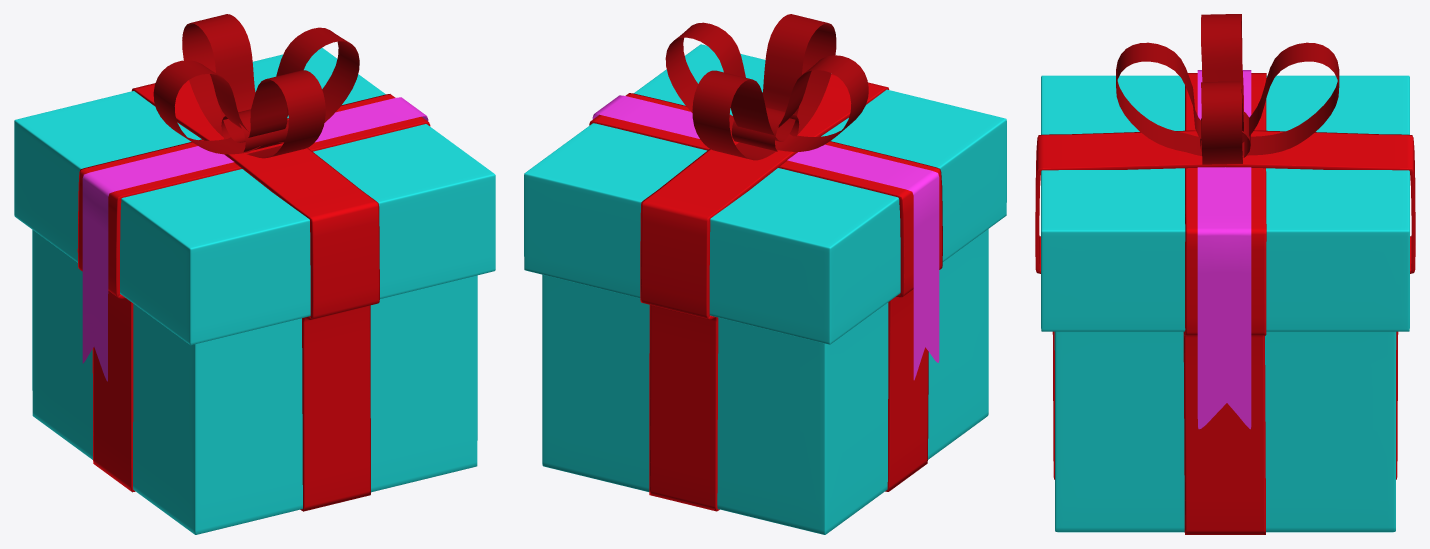
File: blue_gift.dae
The picture shows the model from 3 angles, left to right: view 1: azimuth 30°, elevation 25°; view 2: azimuth 150°, elevation 25°; view 3: azimuth 270°, elevation 25°; orthographic projection. The views are drawn at different scales.
Visible parts, largest first — view 1: box, ribbon 3, ribbon 2, ribbon 4, green ribbon, ribbon 5, ribbon 1; view 2: box, ribbon 3, ribbon 2, ribbon 4, green ribbon, ribbon 5, ribbon 1; view 3: box, ribbon 2, green ribbon, ribbon 3, ribbon 4, ribbon 5.
Part boxes in pixels (x1,y1,x2,y2): box: [14, 48, 495, 534]; ribbon 3: [131, 80, 379, 511]; ribbon 2: [77, 94, 430, 492]; ribbon 4: [182, 14, 325, 158]; green ribbon: [82, 97, 428, 381]; ribbon 5: [153, 27, 359, 154]; ribbon 1: [221, 109, 287, 151]; box: [524, 44, 1006, 534]; ribbon 3: [640, 73, 889, 511]; ribbon 2: [589, 93, 942, 491]; ribbon 4: [692, 14, 836, 160]; green ribbon: [592, 95, 939, 380]; ribbon 5: [665, 22, 868, 151]; ribbon 1: [731, 107, 799, 151]; box: [1041, 75, 1409, 532]; ribbon 2: [1183, 73, 1266, 534]; green ribbon: [1197, 70, 1251, 429]; ribbon 3: [1035, 130, 1415, 479]; ribbon 4: [1116, 42, 1339, 155]; ribbon 5: [1201, 14, 1243, 164].
Size of the model in its own units: 2.26 by 2.23 by 2.67.
